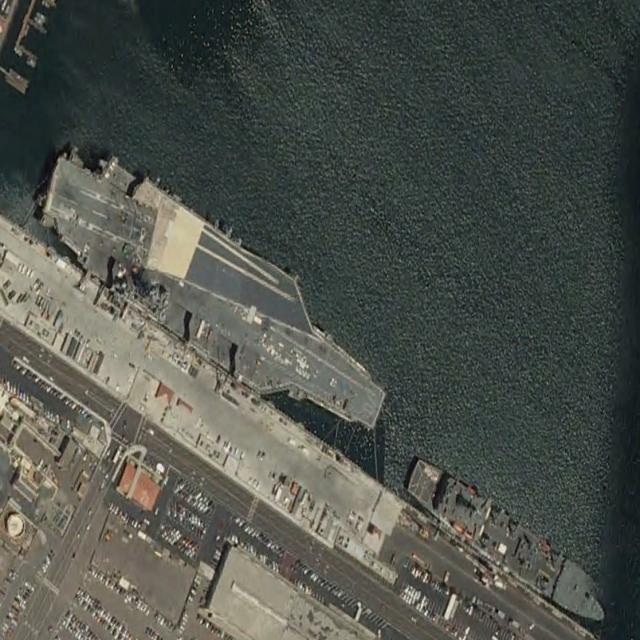Aircraft Carrier: (29, 126, 402, 459)
Other Ship: (403, 448, 615, 635)
